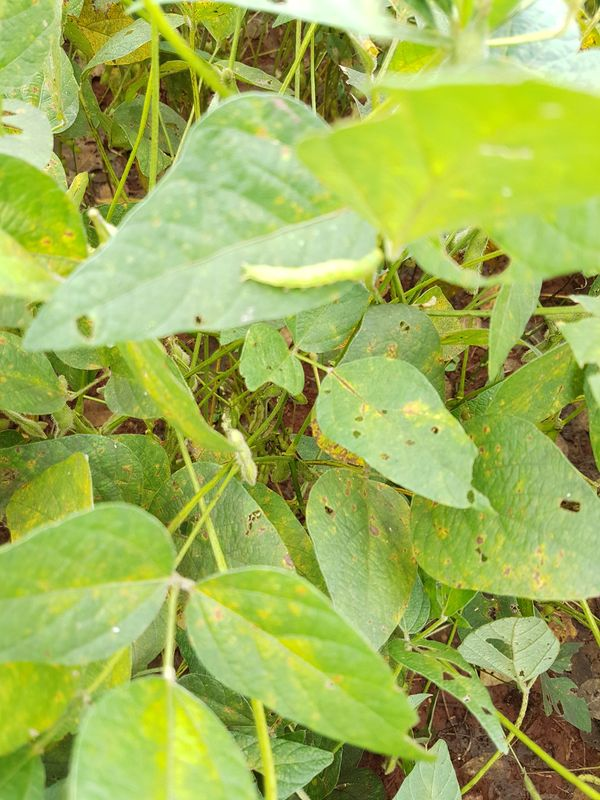Anticarsia_gemmatalis: (226, 237, 391, 322)
